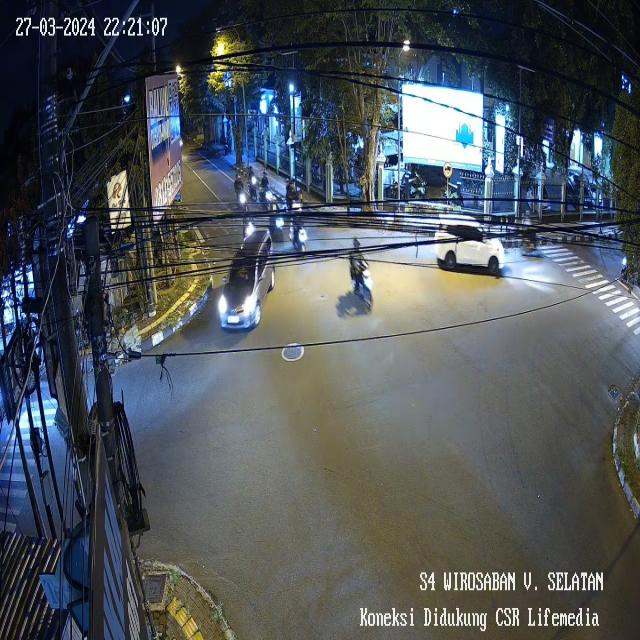car: (214, 224, 278, 336), (432, 208, 506, 280)
motorcycle: (347, 230, 376, 315), (516, 229, 548, 263), (257, 166, 279, 212), (287, 218, 309, 260), (267, 202, 285, 244), (232, 166, 249, 208), (288, 174, 306, 211), (241, 208, 257, 249), (247, 160, 259, 201), (620, 252, 634, 285)
